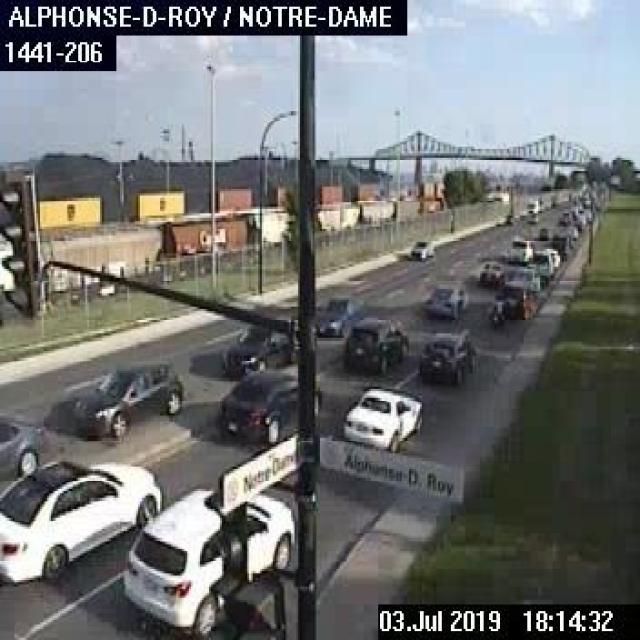vehicle: (126, 478, 298, 638), (0, 455, 162, 581), (66, 358, 186, 440), (212, 359, 320, 447), (340, 385, 424, 451), (218, 310, 296, 367), (337, 317, 409, 373), (416, 329, 478, 384), (0, 406, 47, 477), (314, 291, 356, 339), (418, 278, 466, 320), (497, 278, 534, 316), (482, 289, 511, 330), (504, 264, 539, 292), (528, 247, 552, 280), (476, 256, 502, 286), (506, 232, 530, 260), (406, 238, 434, 260), (523, 193, 539, 222), (545, 246, 559, 268), (538, 225, 550, 238)
